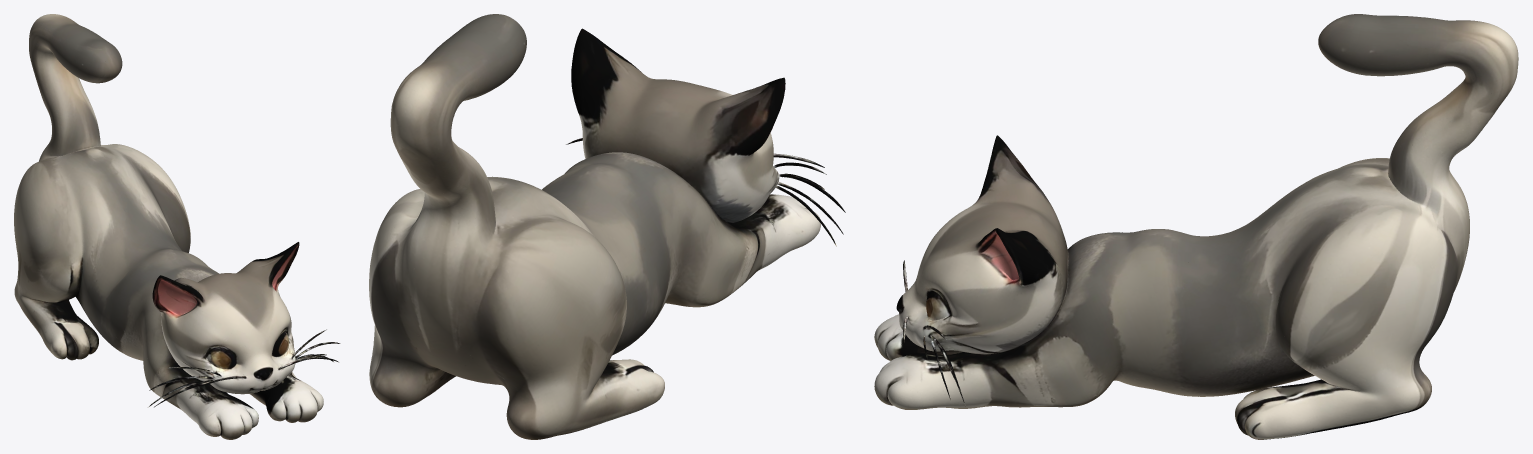
The model's file is Siblings-right-cat_1.glb.
3 renders of one model, left to right at view 1: azimuth 30°, elevation 25°; view 2: azimuth 150°, elevation 25°; view 3: azimuth 270°, elevation 25°, orthographic. The views are drawn at different scales.
Parts seen in each view (by area): view 1: model; view 2: model; view 3: model.
Boxes of the visible parts, box(x1,y1,x2,y2) form: model: box(14, 14, 340, 439); model: box(369, 14, 845, 439); model: box(874, 14, 1518, 439).
Size of the model in its own units: 0.8458 by 1.15 by 1.79.
Materials: 1 (1 with a texture image).
